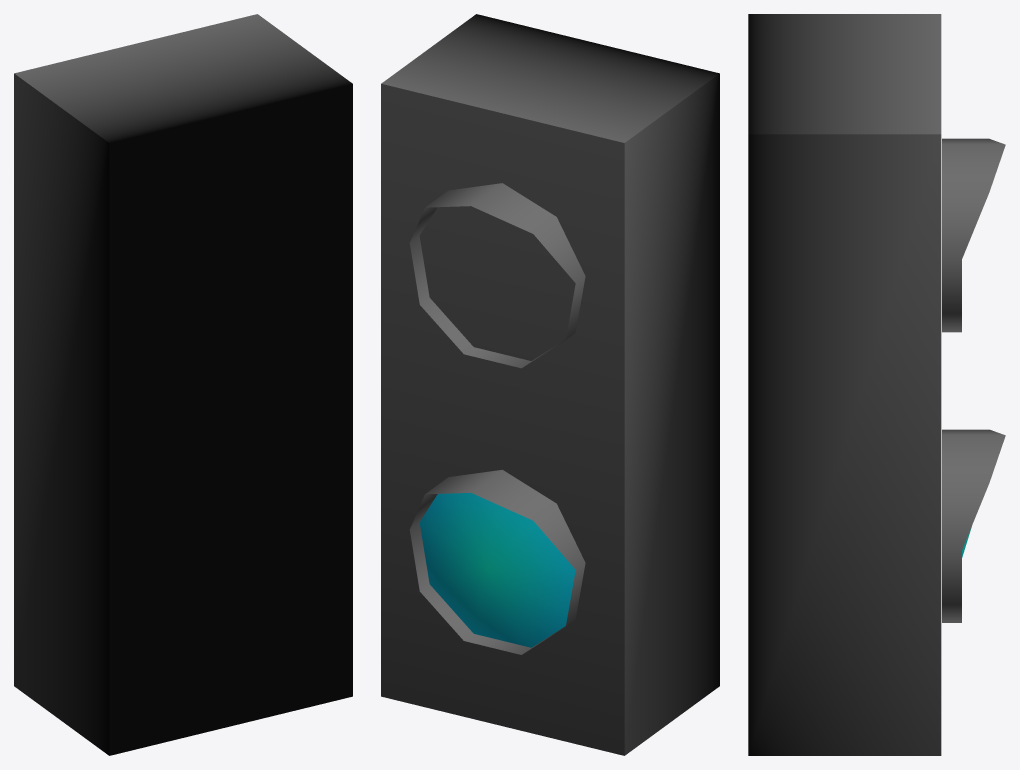
File: SIGNAL_CHIKA.glb
The picture shows the model from 3 angles, left to right: view 1: azimuth 30°, elevation 25°; view 2: azimuth 150°, elevation 25°; view 3: azimuth 270°, elevation 25°; orthographic projection.
Visible parts, largest first — view 1: chika_box; view 2: chika_box; view 3: chika_box.
Part boxes in pixels (x1=…): chika_box: x1=14, y1=14, x2=352, y2=755; chika_box: x1=381, y1=14, x2=719, y2=755; chika_box: x1=748, y1=14, x2=1005, y2=755.
Size of the model in its own units: 0.9986 by 2.4 by 0.9025.
2 materials, 2 textured.
